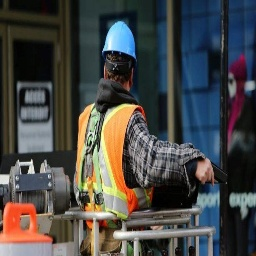helmet: (98, 20, 140, 62)
person: (73, 17, 148, 217)
vest: (76, 102, 149, 217)
